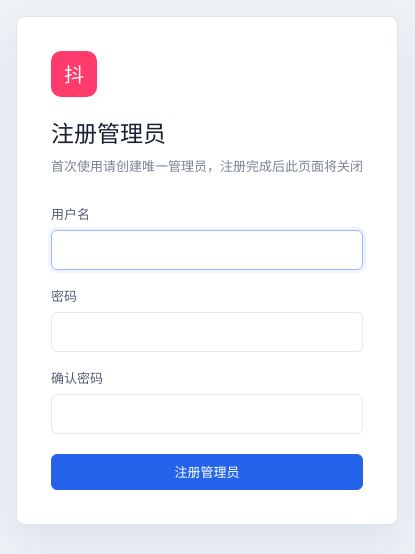
Test case: administrator bootstrap UI › moves a stale registration page to login after a setup conflict
In the field labelled "用户名": (207, 250) [51,230,363,270], type "admin"
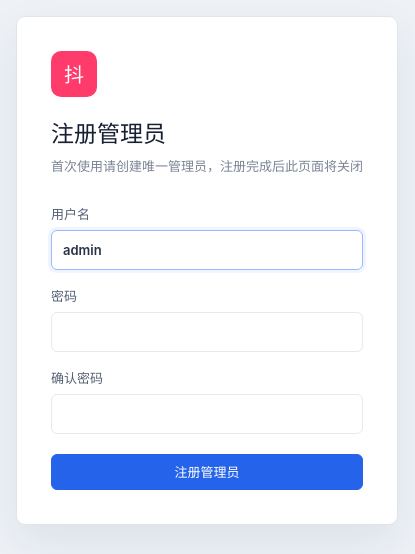
In the password field labelled "密码": (207, 332) [51,312,363,352], type "a-long-admin-password"
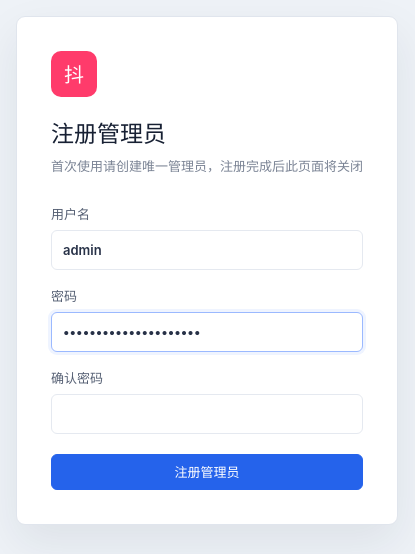
In the password field labelled "确认密码": (207, 414) [51,394,363,434], type "a-long-admin-password"
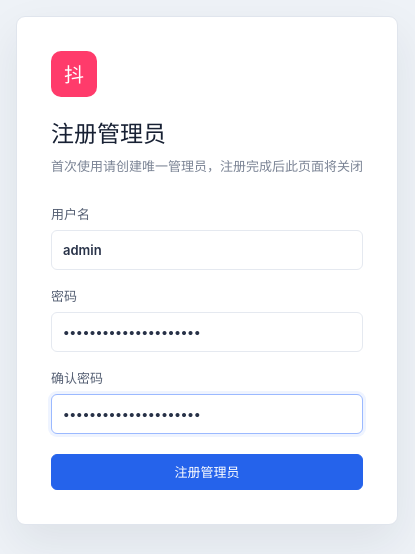
Click the button "注册管理员": (207, 472) [51,454,363,490]
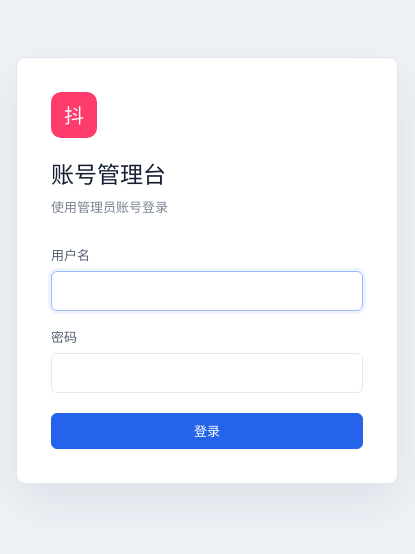
Expected: the heading "账号管理台" is shown, [51,160,166,188]
